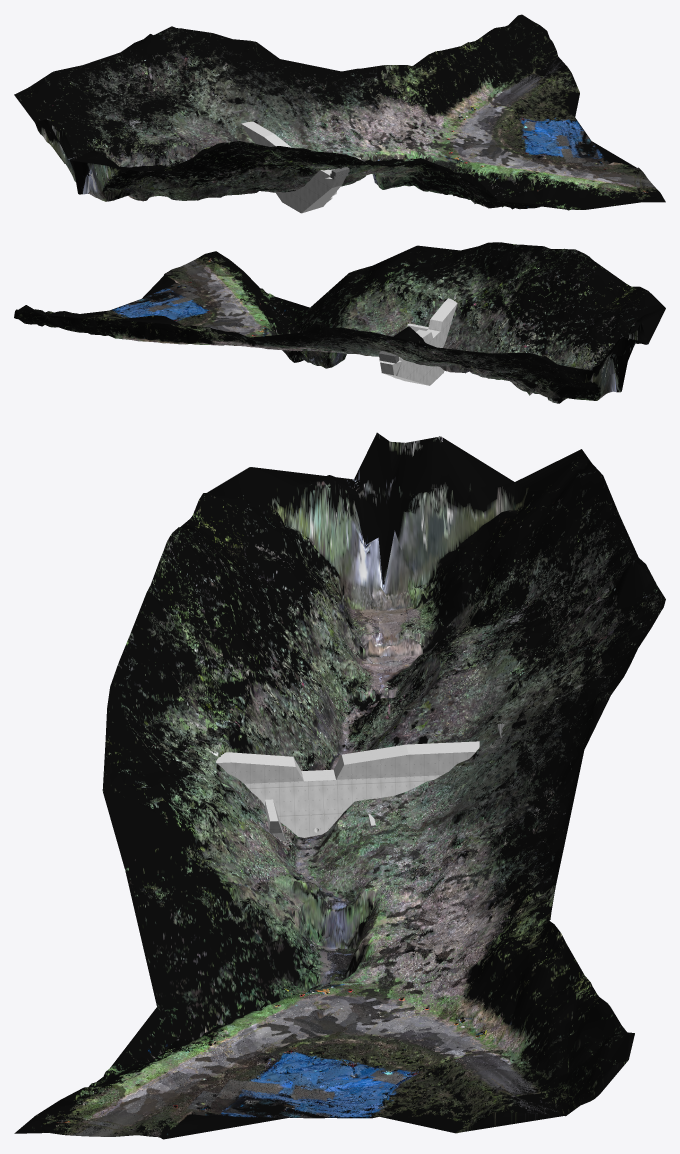
The picture shows the model from 3 angles, top to bottom: view 1: azimuth 30°, elevation 25°; view 2: azimuth 150°, elevation 25°; view 3: azimuth 270°, elevation 25°; orthographic projection. The views are drawn at different scales.
Visible parts, largest first — view 1: オブジェクト, 構造物モデル; view 2: オブジェクト, 構造物モデル; view 3: オブジェクト, 構造物モデル.
Boxes of the visible parts, bbox=[...] form: オブジェクト: bbox=[14, 14, 665, 210]; 構造物モデル: bbox=[231, 108, 349, 213]; オブジェクト: bbox=[14, 242, 665, 403]; 構造物モデル: bbox=[379, 283, 460, 385]; オブジェクト: bbox=[14, 432, 665, 1139]; 構造物モデル: bbox=[183, 724, 504, 854].
Bounding box in the file's own units: 73.53 × 18.58 × 40.26.
8 materials, 7 textured.
